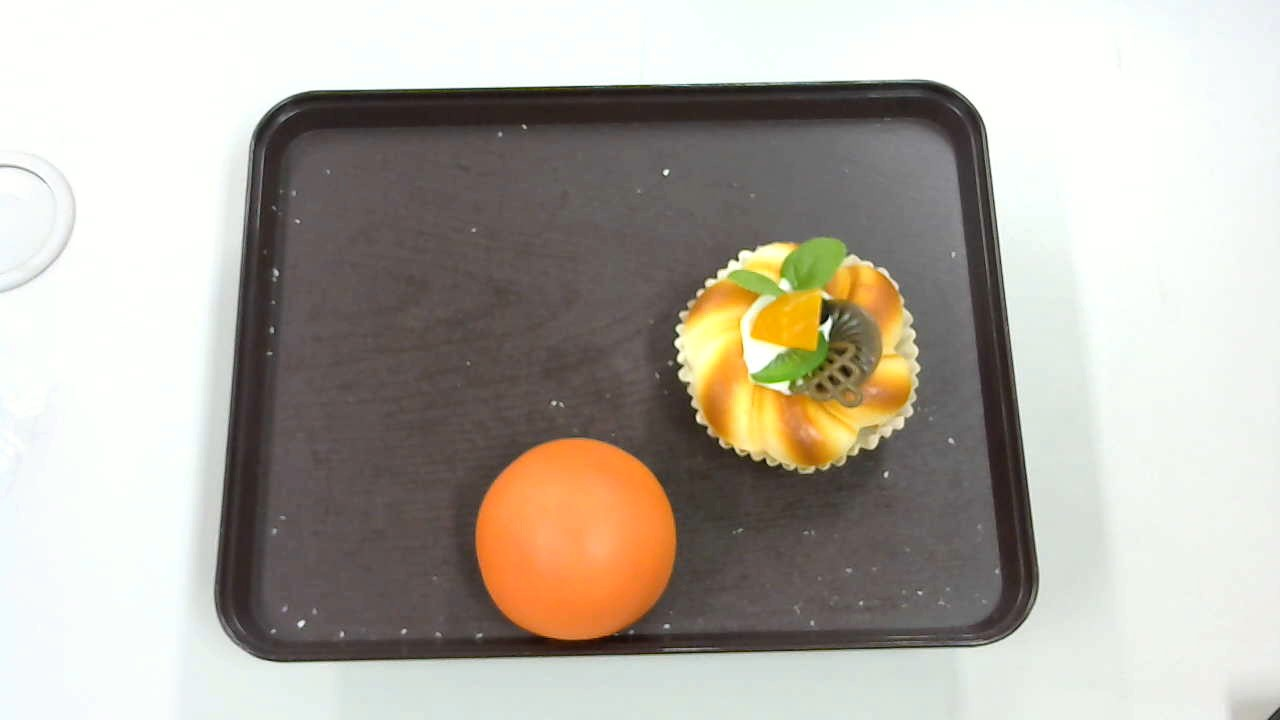bun: (475, 437, 677, 641)
fruit tart: (673, 235, 921, 474)
